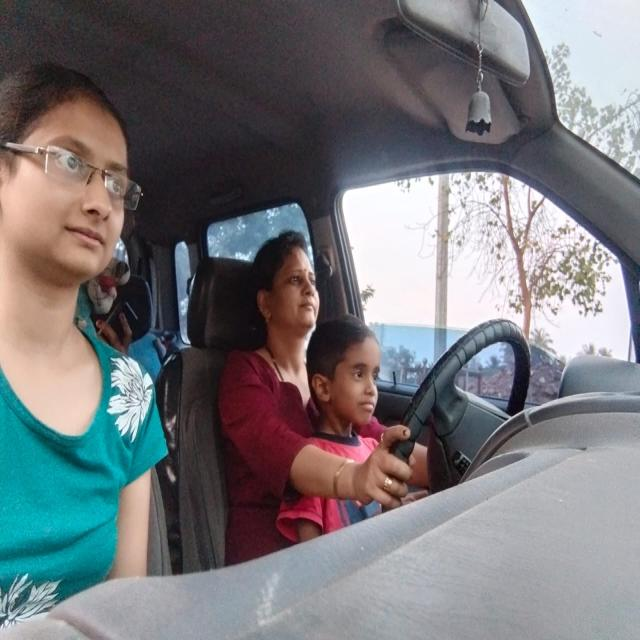child: (310, 327, 385, 429)
person: (2, 66, 128, 275), (254, 232, 318, 331)
